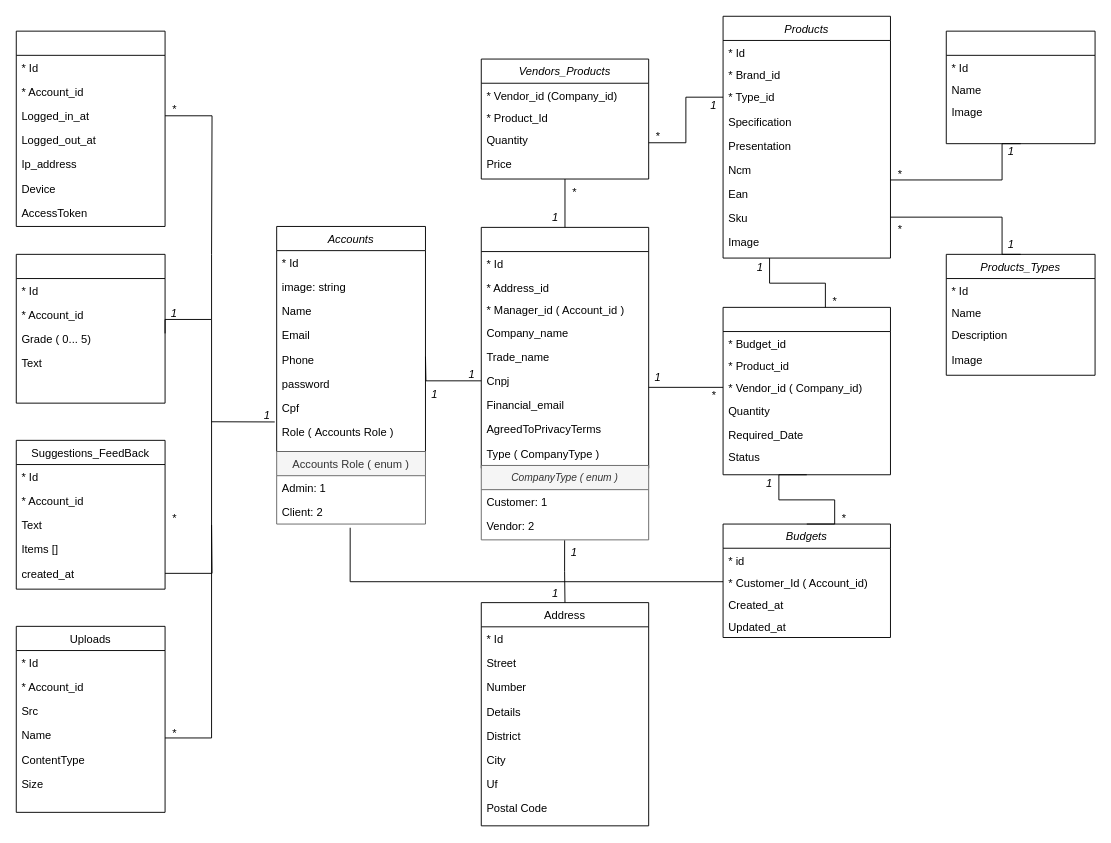
The diagram is 1111 pixels wide and 843 high, and some of its shapes have lost their labels. The shapes that lost their labels are listed below. From the top down, each one's box as (x1, y1, x2, y2) in pixels, then its label:
(945, 30, 1095, 144): Brands
(15, 30, 165, 226): Access_traces
(15, 253, 165, 403): Rating_FeedBacks
(480, 226, 649, 468): Companies
(722, 306, 890, 475): Budget_Items
